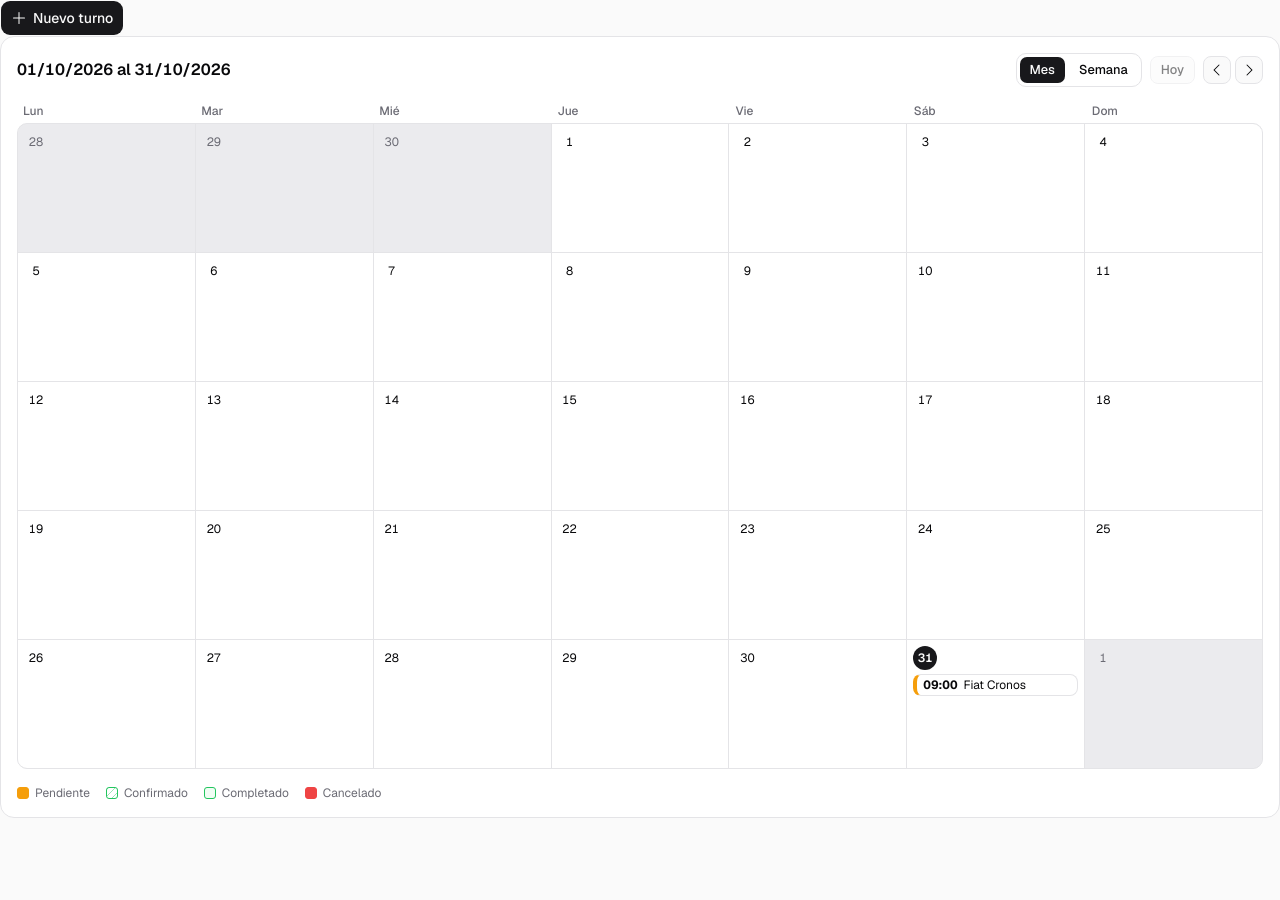
it: AppointmentsCalendar › opens an appointment's modal from its card
This screenshot has width=1280, height=900.
Click the button "09:00 Fiat Cronos": (996, 685) [913,674,1078,696]
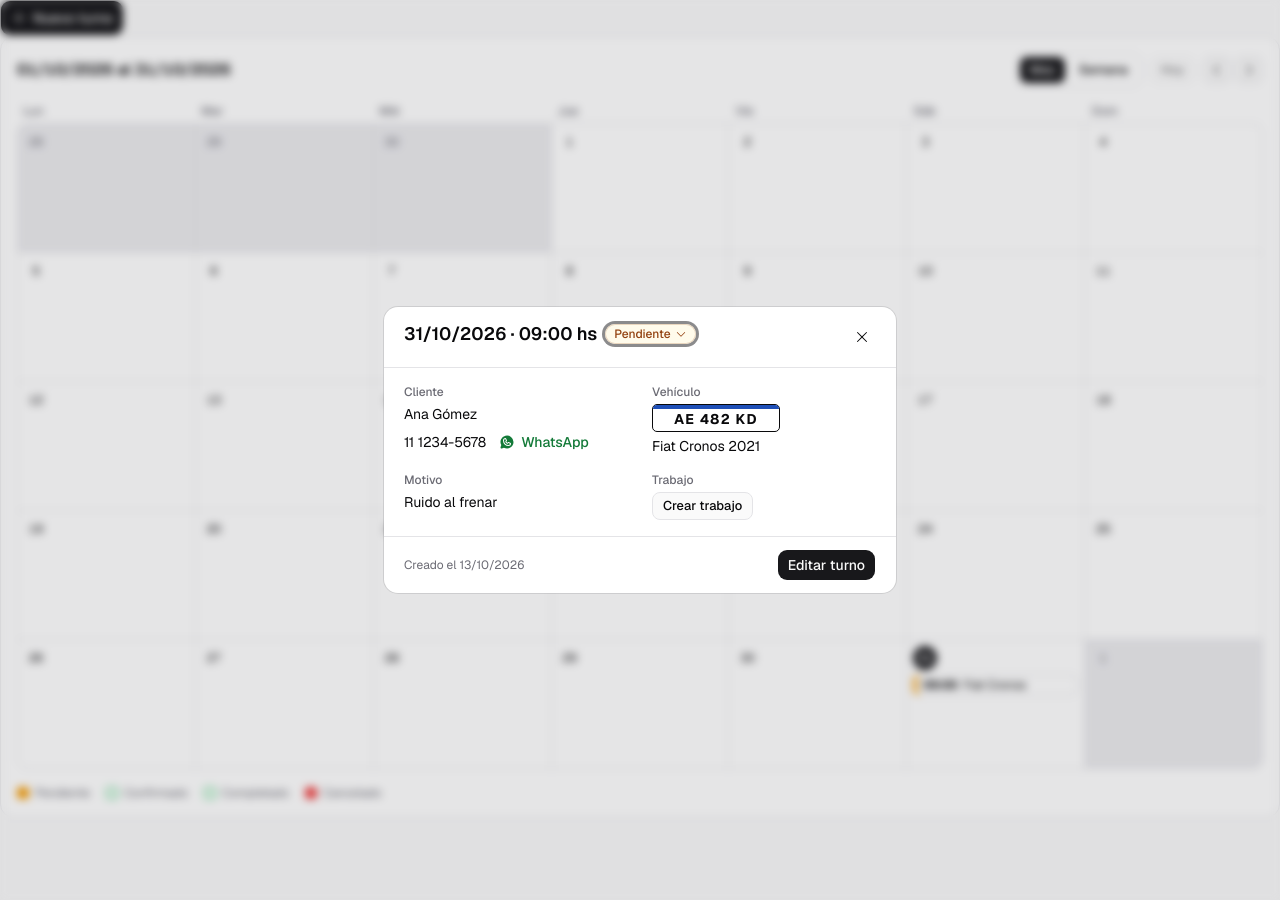
Now the text "Ruido al frenar" is shown, box [404,493,497,511]
